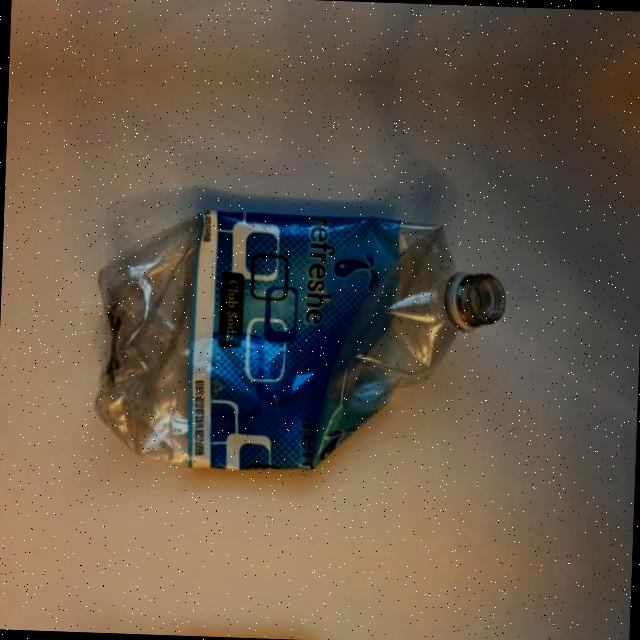Plastic: (82, 146, 522, 504), (77, 615, 505, 640), (99, 0, 527, 11)
